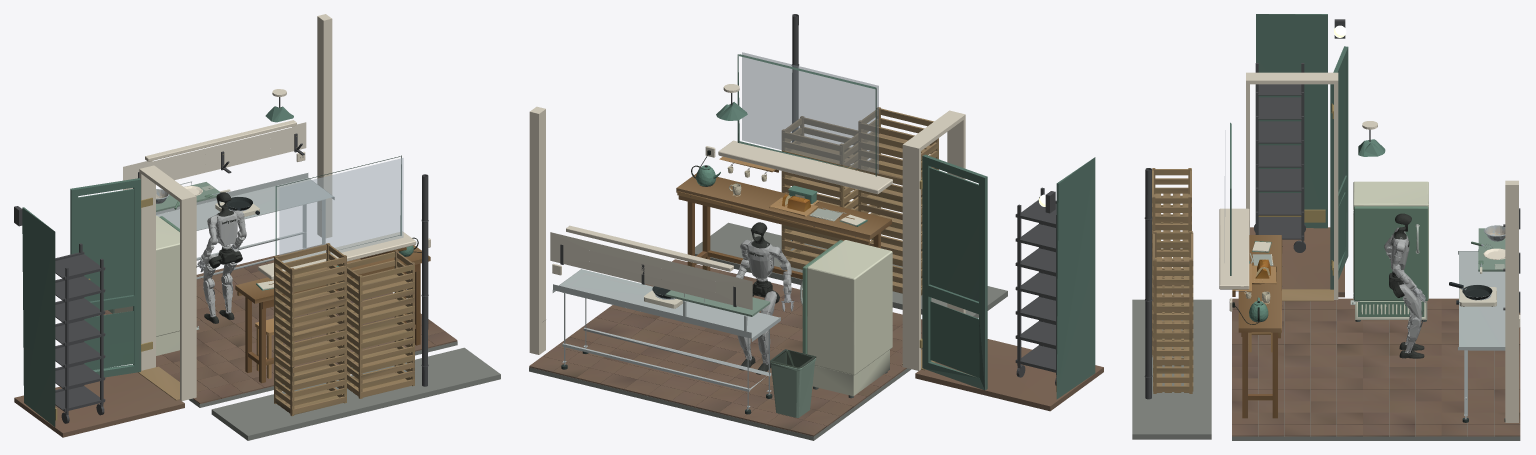
File: mini.glb
3 views of the same model, side by side, from view 1: azimuth 30°, elevation 25°; view 2: azimuth 150°, elevation 25°; view 3: azimuth 270°, elevation 25° (orthographic). The views are drawn at different scales.
Parts seen in each view (by area): view 1: part/bin/old_bread_bag, part/bin/liner, part/wall_window/glass, part/refrigerator/cabinet, part/g1/torso_link, part/bin/rolled_rim; view 2: part/bin/liner, part/bin/old_bread_bag, part/wall_window/glass, part/refrigerator/cabinet, part/bin/rolled_rim, part/g1/torso_link, part/refrigerator/door; view 3: part/bin/liner, part/bin/old_bread_bag, part/refrigerator/door, part/refrigerator/cabinet, part/refrigerator/jar_lid, part/bin/rolled_rim.
Part boxes in pixels (x1=…): part/bin/old_bread_bag: x1=14, y1=14, x2=500, y2=440; part/bin/liner: x1=14, y1=106, x2=457, y2=437; part/wall_window/glass: x1=279, y1=158, x2=403, y2=262; part/refrigerator/cabinet: x1=114, y1=216, x2=179, y2=355; part/g1/torso_link: x1=215, y1=209, x2=237, y2=245; part/bin/rolled_rim: x1=108, y1=182, x2=220, y2=313; part/bin/liner: x1=529, y1=54, x2=1103, y2=436; part/bin/old_bread_bag: x1=529, y1=14, x2=1056, y2=440; part/wall_window/glass: x1=742, y1=52, x2=878, y2=173; part/refrigerator/cabinet: x1=807, y1=240, x2=892, y2=396; part/bin/rolled_rim: x1=665, y1=290, x2=815, y2=417; part/g1/torso_link: x1=747, y1=240, x2=774, y2=278; part/refrigerator/door: x1=802, y1=240, x2=842, y2=353; part/bin/liner: x1=1230, y1=14, x2=1520, y2=436; part/bin/old_bread_bag: x1=1132, y1=19, x2=1520, y2=440; part/refrigerator/door: x1=1354, y1=206, x2=1428, y2=300; part/refrigerator/cabinet: x1=1353, y1=181, x2=1428, y2=319; part/refrigerator/jar_lid: x1=1358, y1=301, x2=1424, y2=316; part/bin/rolled_rim: x1=1478, y1=228, x2=1505, y2=271.
Size of what is drawn, in the model's own units: 4.1 by 2.35 by 3.24.
12 materials, 12 textured.
